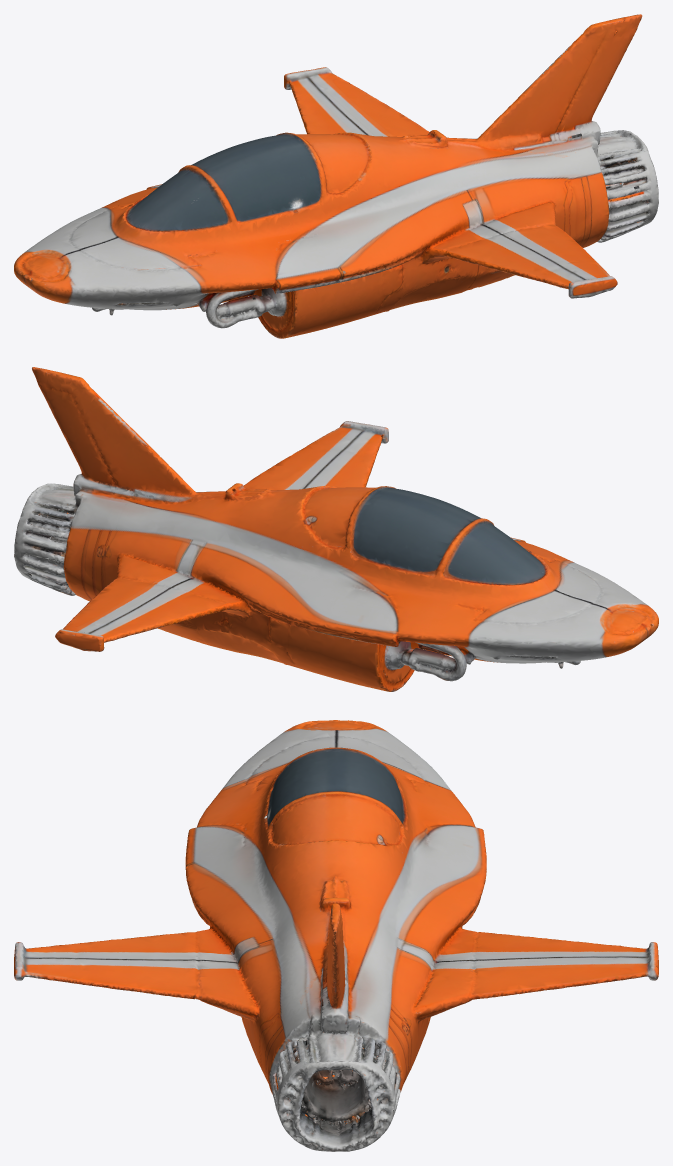
File: orange_fighter_jet.lod1.glb
The picture shows the model from 3 angles, top to bottom: view 1: azimuth 30°, elevation 25°; view 2: azimuth 150°, elevation 25°; view 3: azimuth 270°, elevation 25°; orthographic projection. The views are drawn at different scales.
Size of the model in its own units: 1.91 by 0.6528 by 1.56.
Materials: 1 (1 with a texture image).
